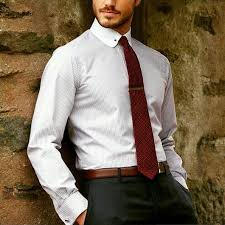F_belt: (78, 161, 175, 180)
F_shirt: (22, 15, 200, 221)
F_tie: (112, 37, 158, 178)
